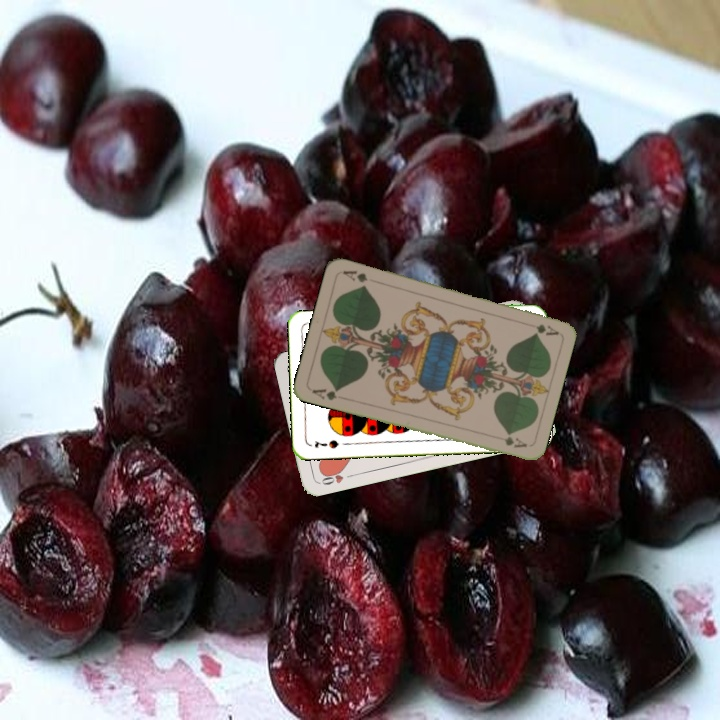GA: (308, 384, 347, 403), (532, 320, 561, 338)
HO: (316, 465, 356, 488)
S7: (311, 436, 341, 451)
